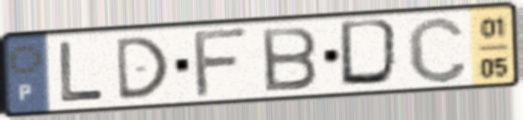B: (258, 24, 321, 94)
C: (404, 13, 471, 86)
D: (336, 16, 406, 90), (112, 34, 172, 103)
F: (192, 25, 253, 101)
L: (57, 39, 107, 106)
